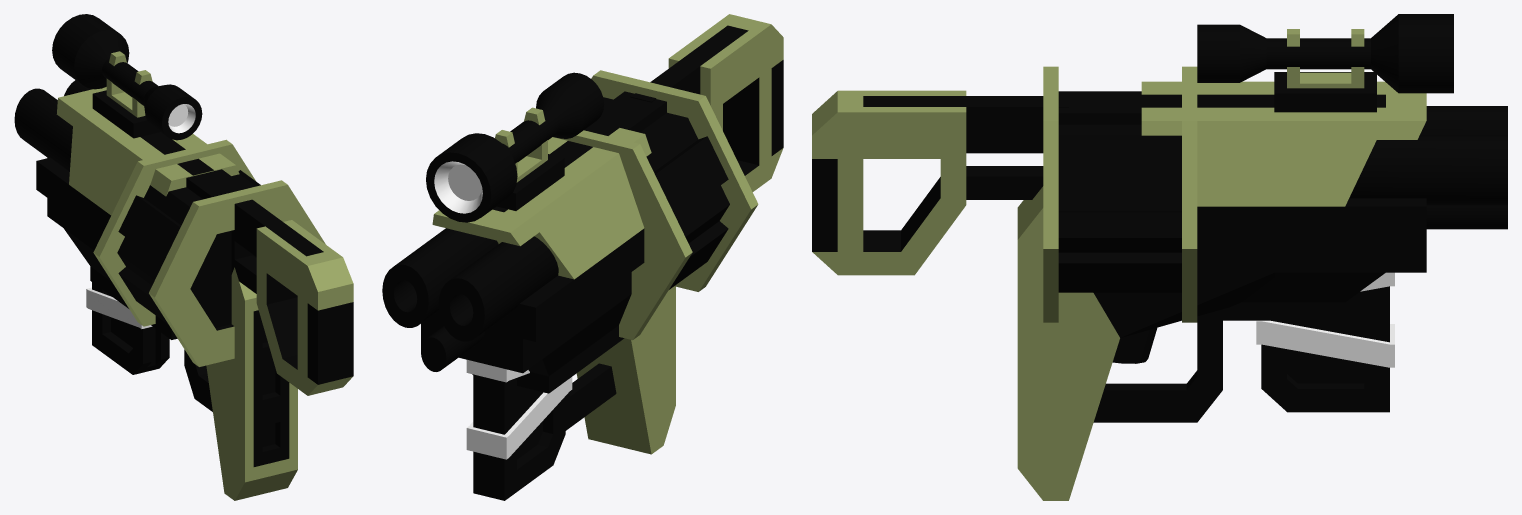
Rendered from chicken blaster.glb.
The picture shows the model from 3 angles, left to right: view 1: azimuth 30°, elevation 25°; view 2: azimuth 150°, elevation 25°; view 3: azimuth 270°, elevation 25°; orthographic projection. The views are drawn at different scales.
Parts seen in each view (by area): view 1: mergedBlocks(Clone); view 2: mergedBlocks(Clone); view 3: mergedBlocks(Clone).
Boxes of the visible parts, x1,y1,x2,y2 form: mergedBlocks(Clone): [14, 14, 353, 500]; mergedBlocks(Clone): [382, 14, 783, 500]; mergedBlocks(Clone): [812, 14, 1507, 500].
Size of the model in its own units: 1 by 1.96 by 2.71.
